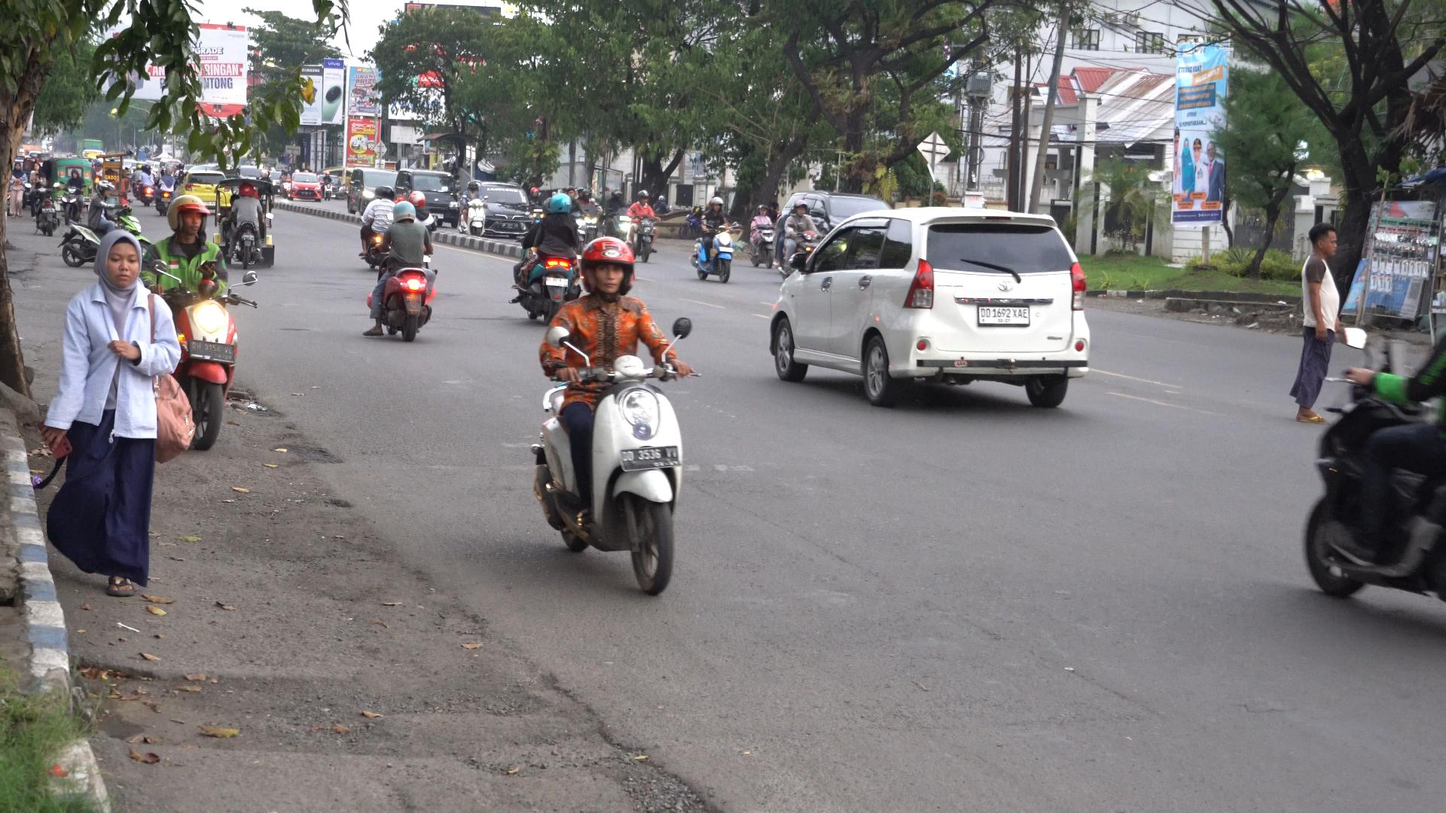number-plate: (615, 444, 685, 473), (183, 337, 236, 363)
